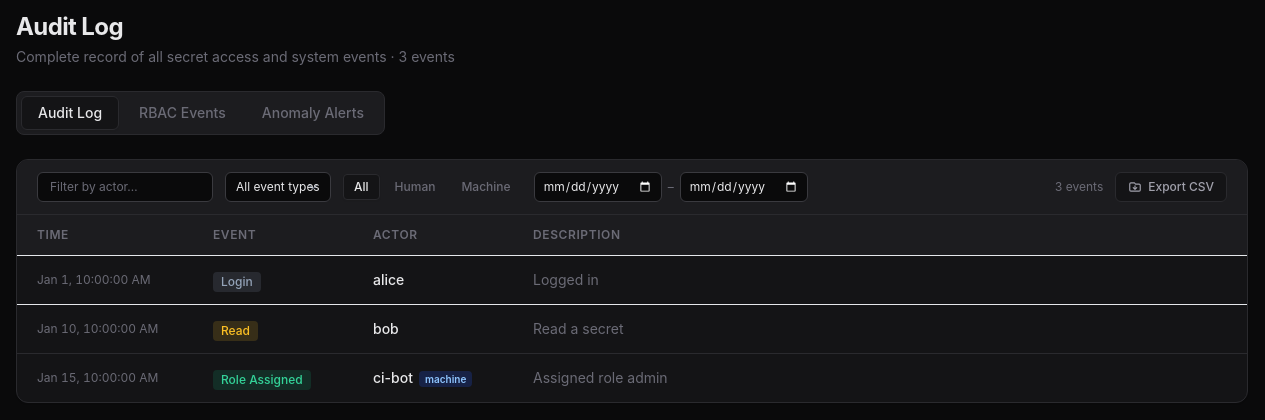
it: AuditLogPage — audit tab › filters by event type
Select "Read" in the dropdown named "Filter by event type". click: (278, 187)
box: [225, 172, 331, 202]
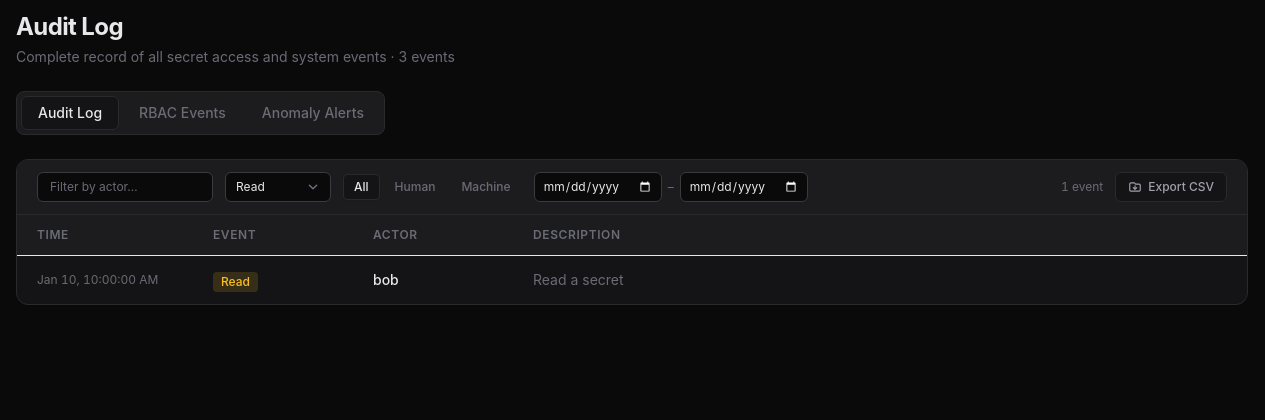
Expected: the text "bob" is shown, [353, 256, 513, 304]
Expected: the text "alice" is gone
